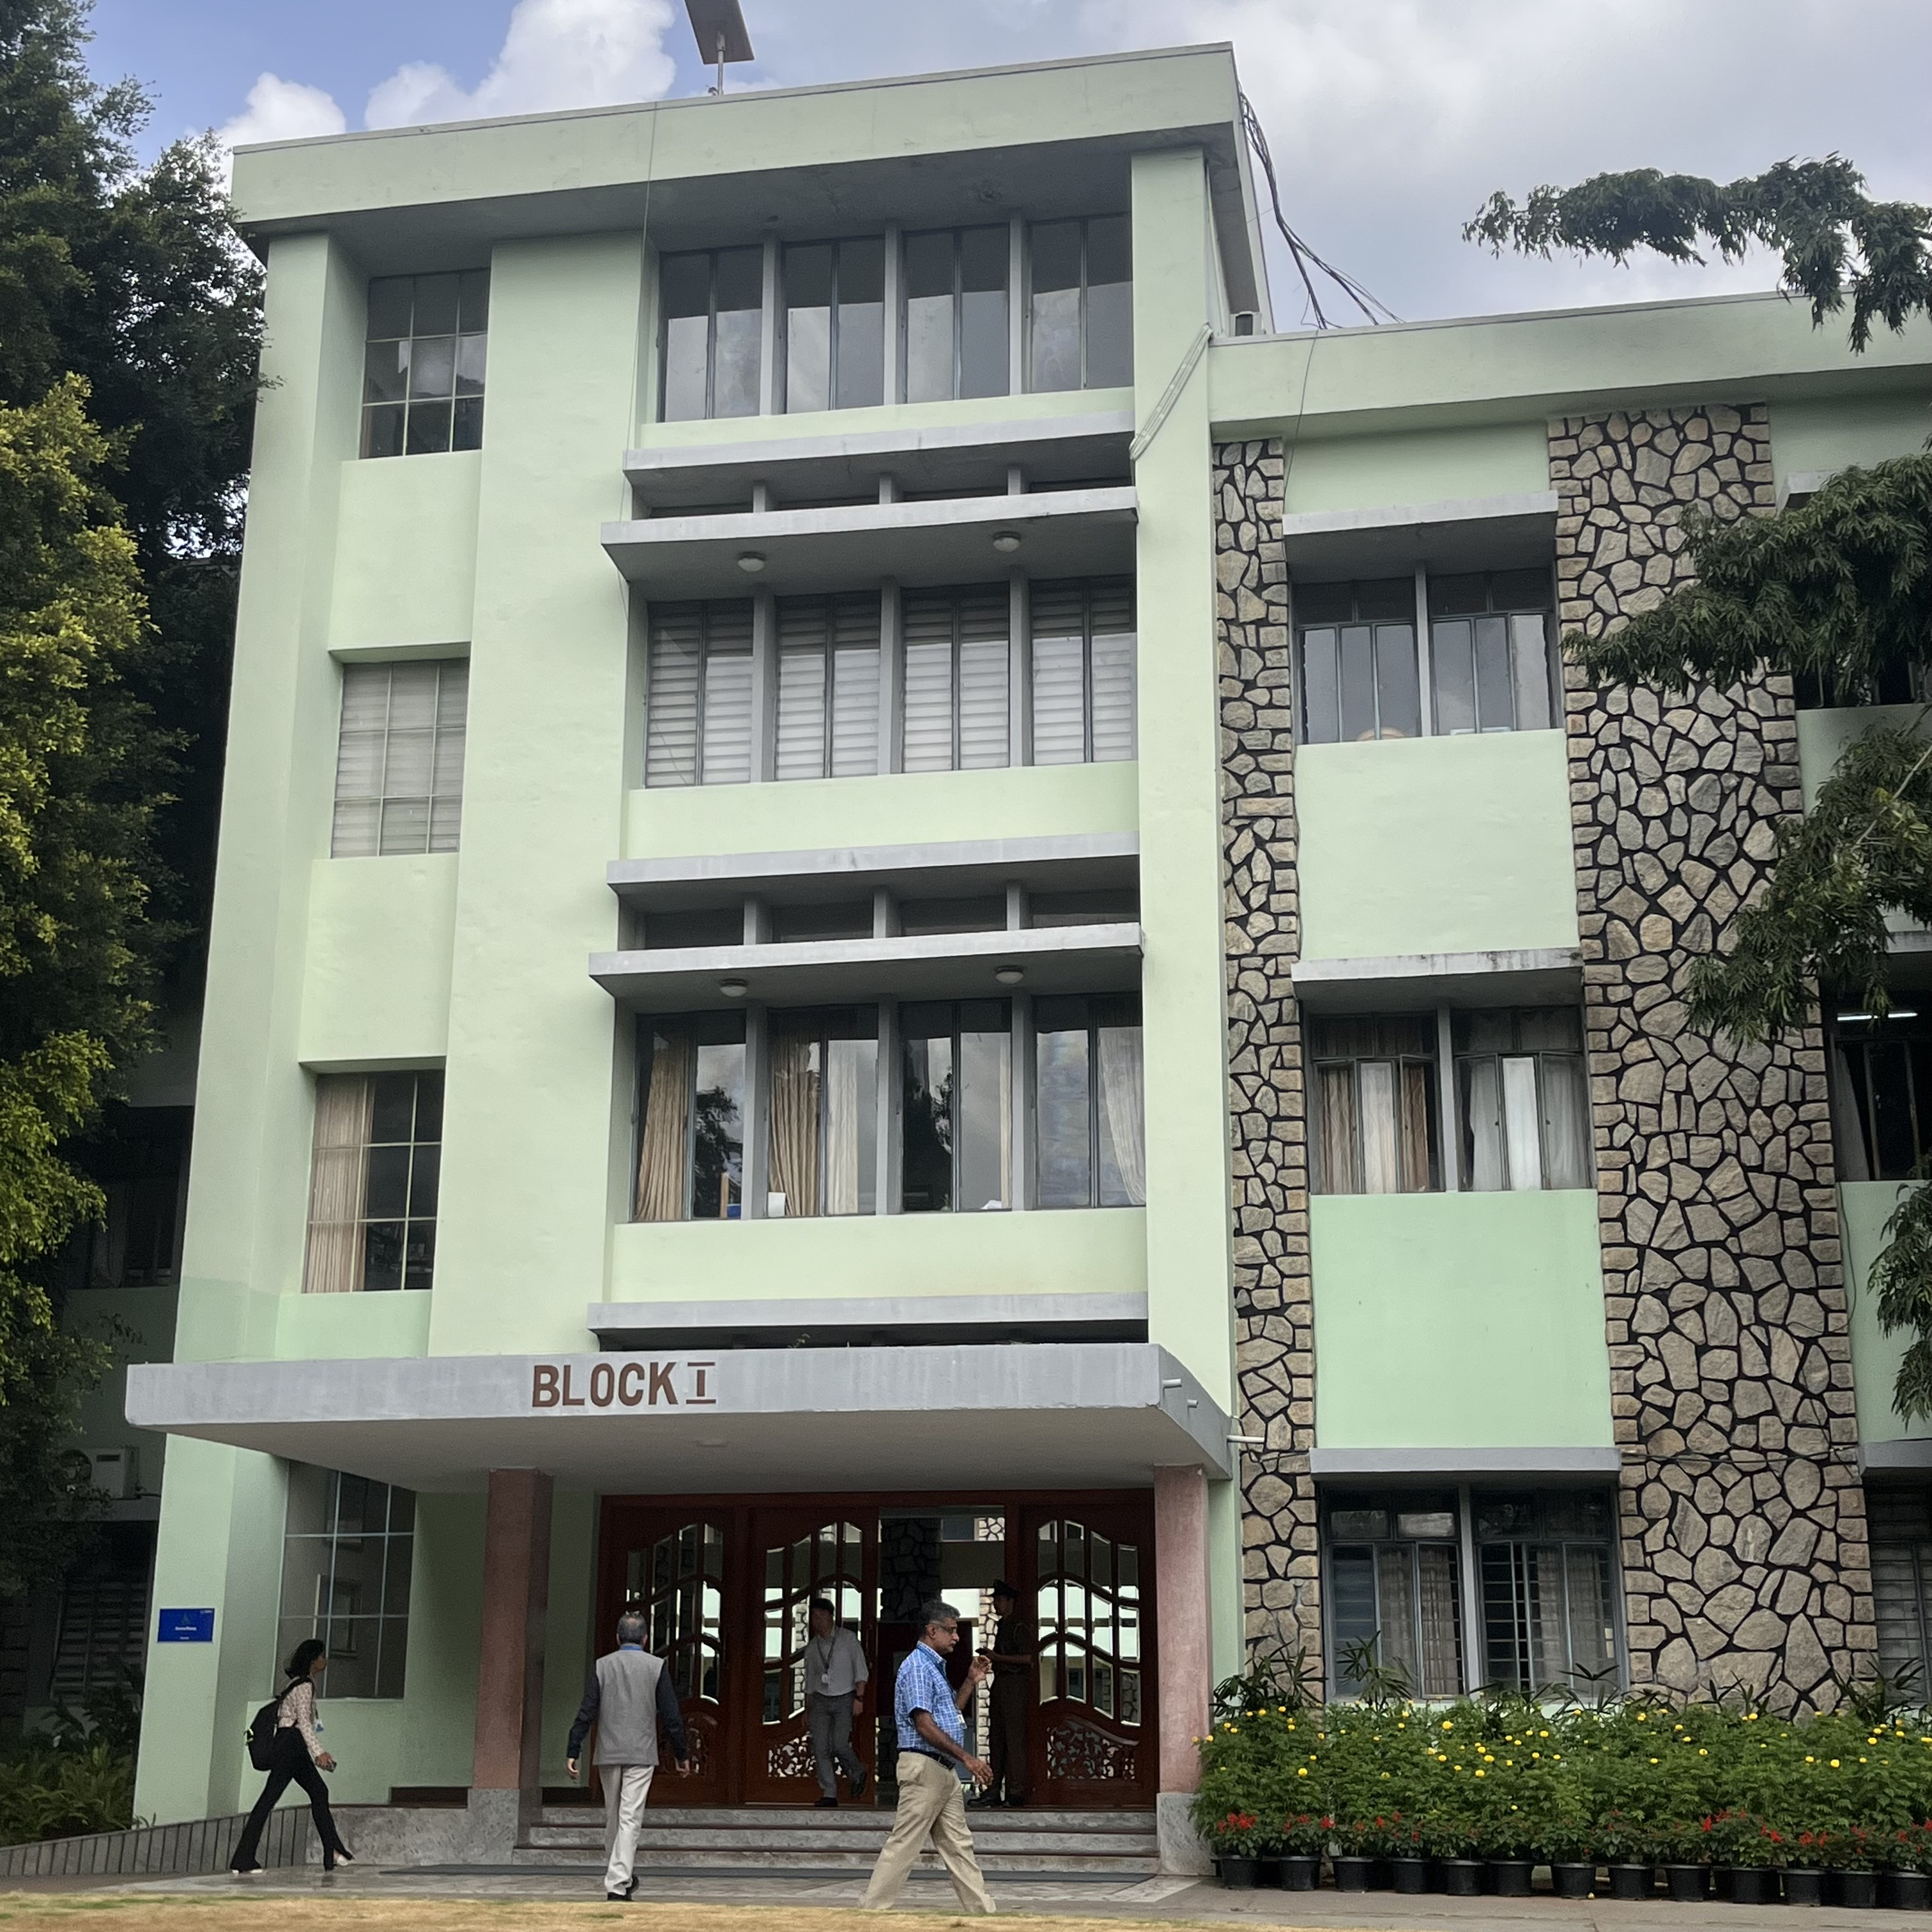Block 1: (214, 124, 1888, 1790)
